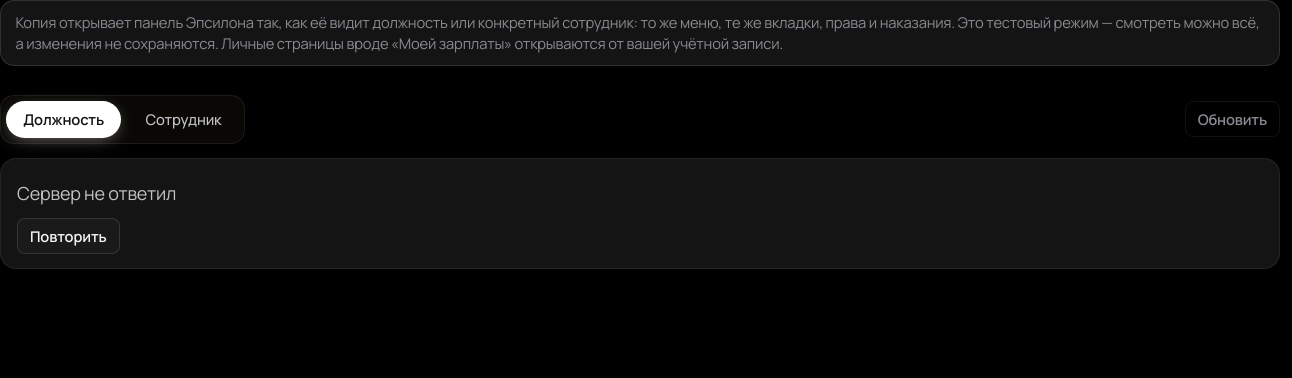
StaffPreviewPane › offers a retry when the list does not load
Expected: the text "Сервер не ответил" is shown, [17, 181, 176, 205]
What coordinates should you click on to do the following:
click the button "Повторить"
I would click on:
 (68, 236)
Its box is [17, 218, 120, 254].
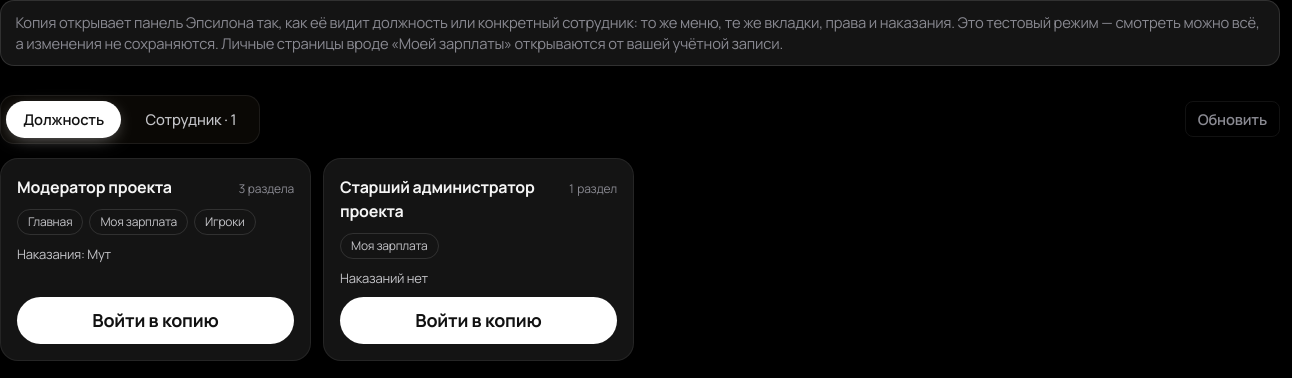
Expected: the text "Модератор проекта" is shown, [17, 175, 172, 199]
